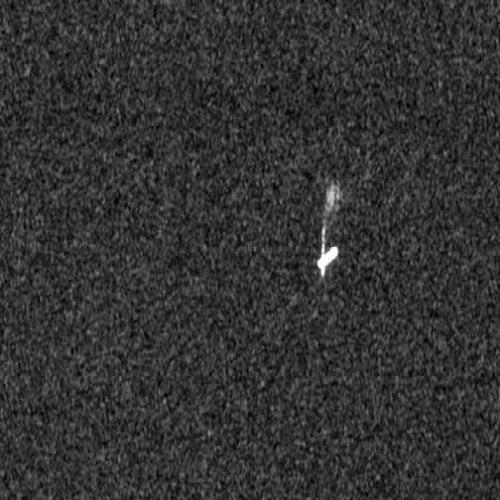ship: (316, 244, 340, 270)
